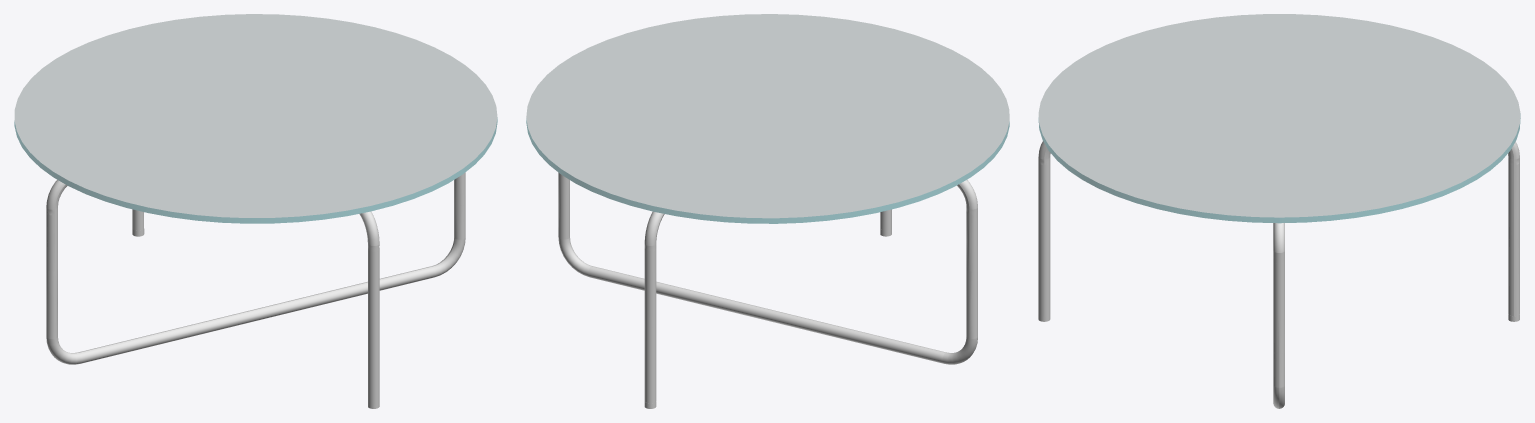
Rendered from DeepWave1_mv.glb.
3 renders of one model, left to right at view 1: azimuth 30°, elevation 25°; view 2: azimuth 150°, elevation 25°; view 3: azimuth 270°, elevation 25°, orthographic.
Parts seen in each view (by area): view 1: DeepWave1_Top, DeepWave1_Leg; view 2: DeepWave1_Top, DeepWave1_Leg; view 3: DeepWave1_Top, DeepWave1_Leg.
Part boxes in pixels (x1,y1,x2,y2): DeepWave1_Top: (14,14,497,223); DeepWave1_Leg: (46,172,465,408); DeepWave1_Top: (526,14,1009,223); DeepWave1_Leg: (558,172,977,408); DeepWave1_Top: (1038,14,1520,223); DeepWave1_Leg: (1038,141,1519,408).
Size of the model in its own units: 0.7795 by 0.3635 by 0.7799.
